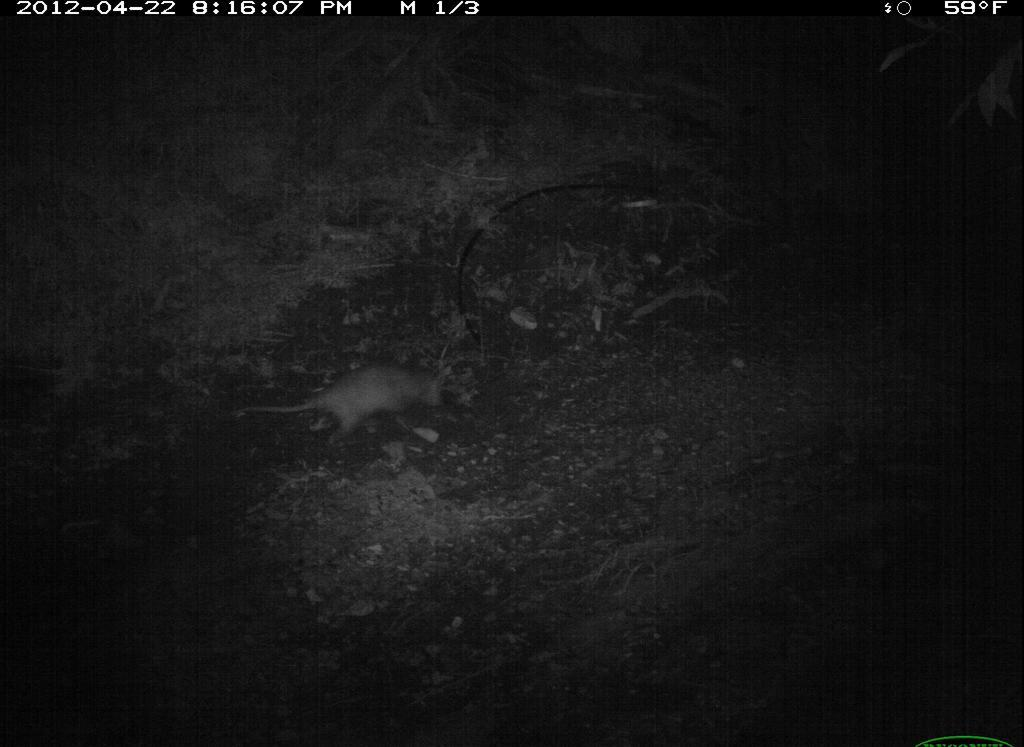opossum: (254, 347, 463, 450)
